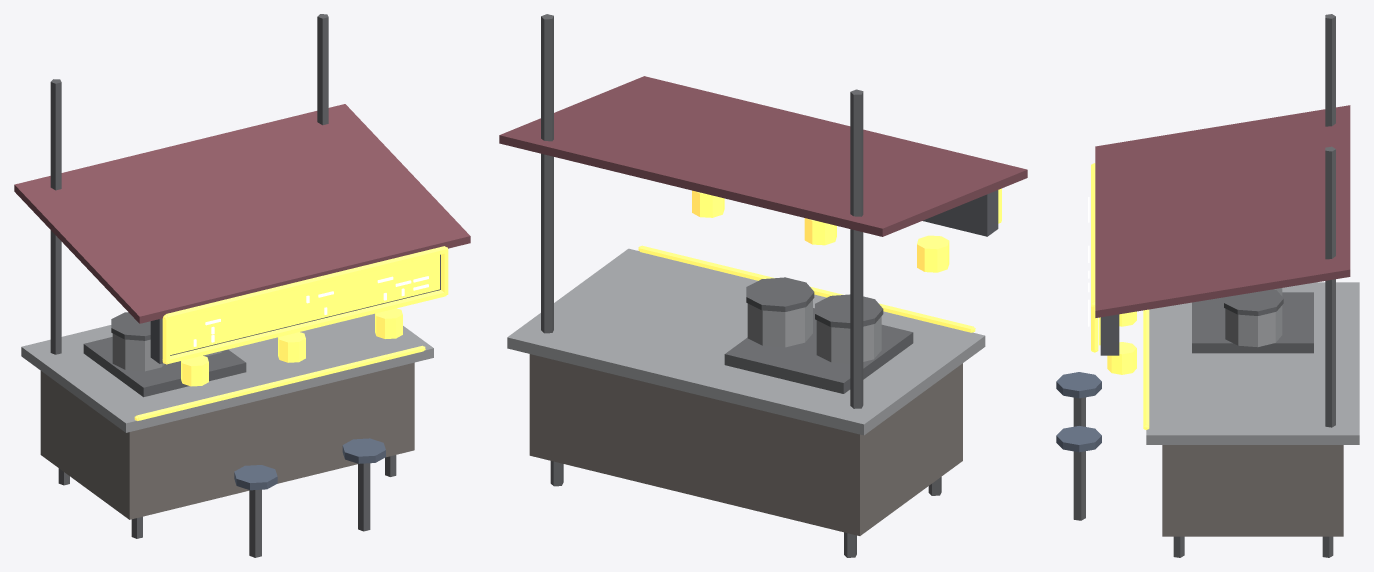
Rendered from noodle_cart.glb.
3 renders of one model, left to right at view 1: azimuth 30°, elevation 25°; view 2: azimuth 150°, elevation 25°; view 3: azimuth 270°, elevation 25°, orthographic. The views are drawn at different scales.
Parts seen in each view (by area): view 1: NoodleCart; view 2: NoodleCart; view 3: NoodleCart.
Boxes of the visible parts, box(x1,y1,x2,y2) form: NoodleCart: box(14, 14, 470, 557); NoodleCart: box(499, 14, 1027, 557); NoodleCart: box(1056, 14, 1359, 557).
Bounding box in the file's own units: 2.9 × 3.37 × 2.26.
